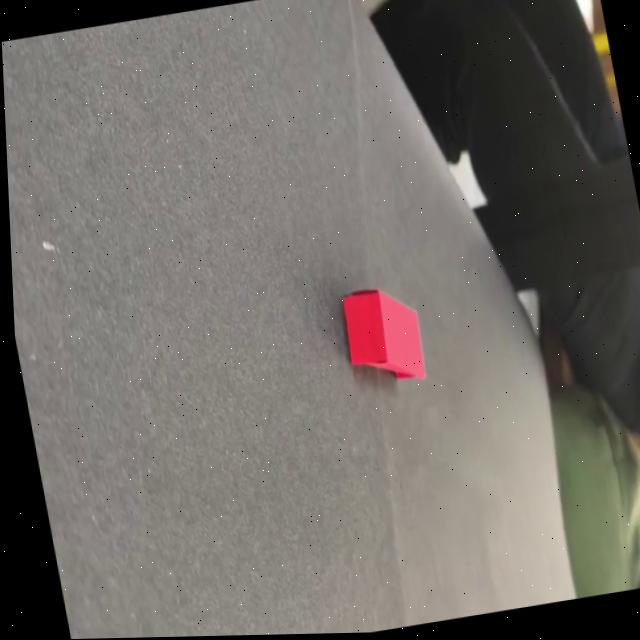red block: (336, 281, 430, 391)
